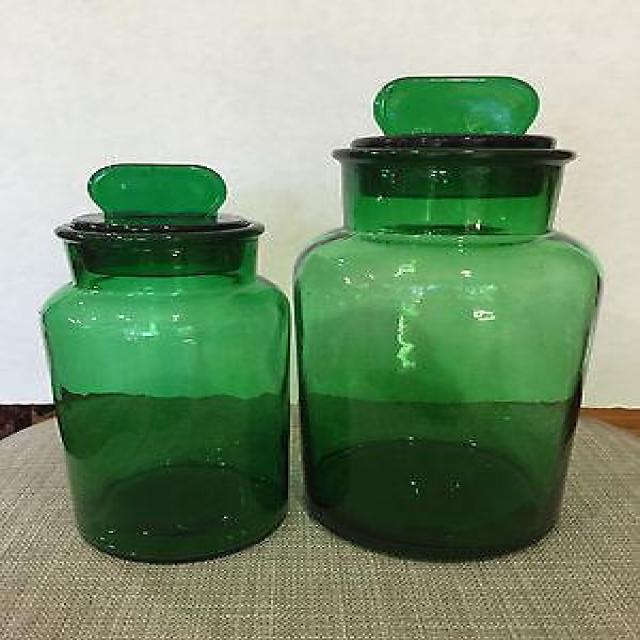non-organic waste: (289, 73, 607, 559), (38, 159, 294, 566)
